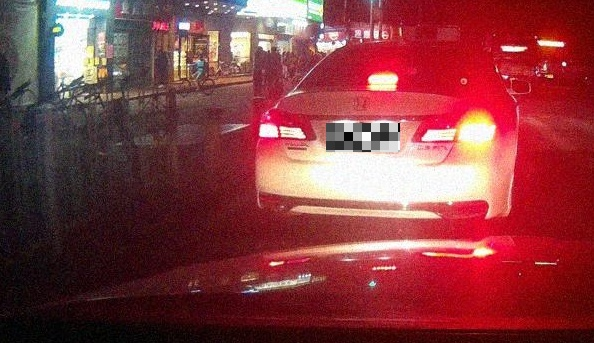L_light: (257, 108, 317, 142)
R_light: (410, 114, 497, 145)
T_light: (367, 73, 398, 86)
night-right: (251, 39, 511, 233)
plate_1: (326, 123, 400, 152)
